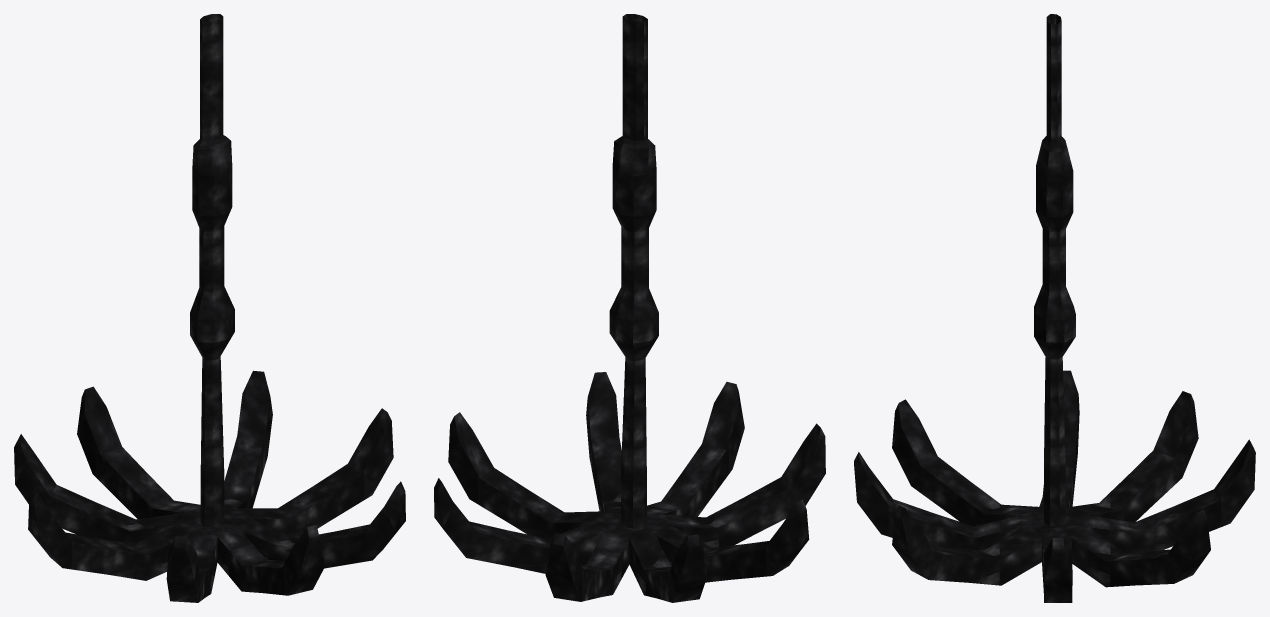
File: lamp.fbx
3 renders of one model, left to right at view 1: azimuth 30°, elevation 25°; view 2: azimuth 150°, elevation 25°; view 3: azimuth 270°, elevation 25°, orthographic.
Visible parts, largest first — view 1: lamp; view 2: lamp; view 3: lamp.
Part boxes in pixels (x1,y1,x2,y2): lamp: (14,14,405,602); lamp: (434,14,825,602); lamp: (854,14,1255,602).
Size of the model in its own units: 72.1 by 107 by 71.37.
1 material, 1 textured.
